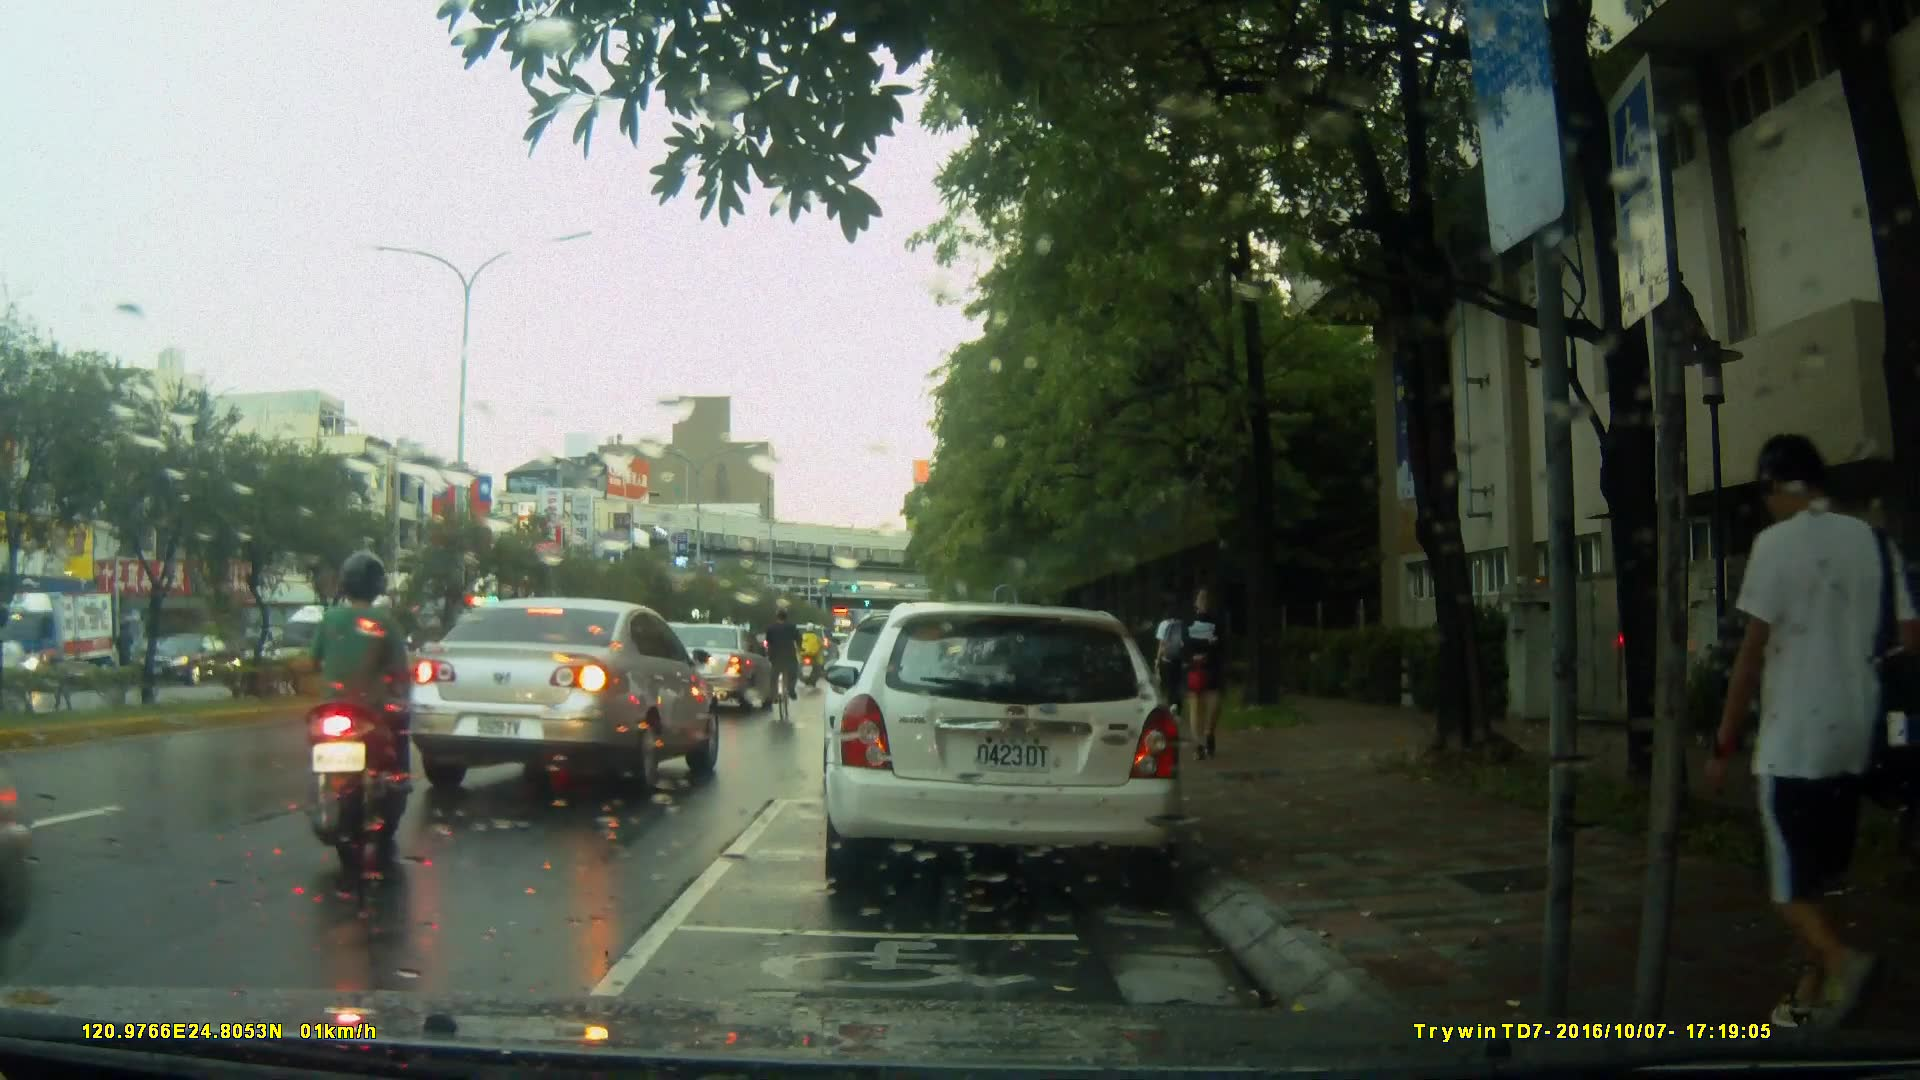pedestrian: (1714, 414, 1866, 1036), (1171, 589, 1231, 761), (1145, 604, 1193, 732)
rider: (294, 551, 402, 895), (308, 582, 418, 763), (762, 609, 801, 733), (799, 615, 830, 692)
vehicle: (820, 602, 1188, 898), (405, 594, 723, 801), (1, 587, 128, 699), (635, 624, 778, 716)
